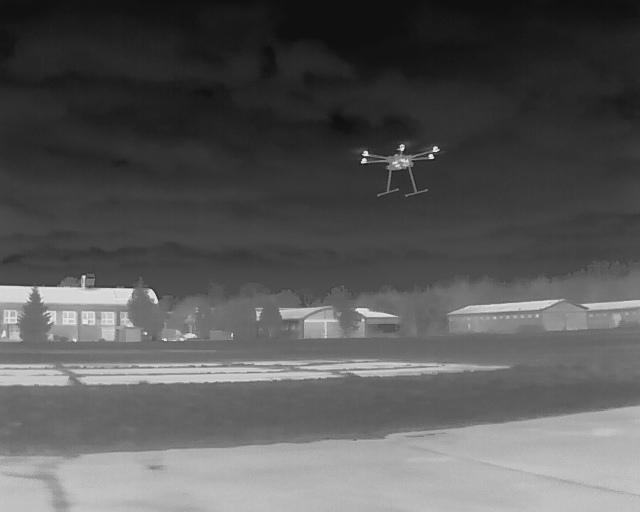drone: (349, 142, 443, 207)
